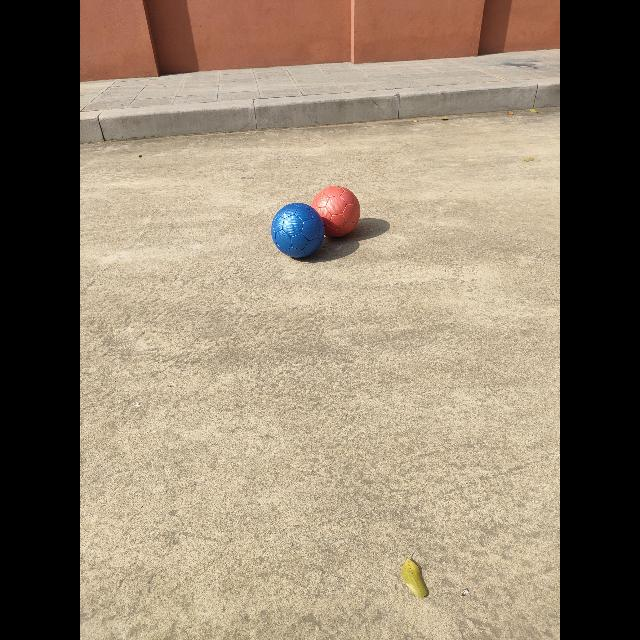B: (271, 202, 325, 258)
R: (311, 185, 360, 238)
